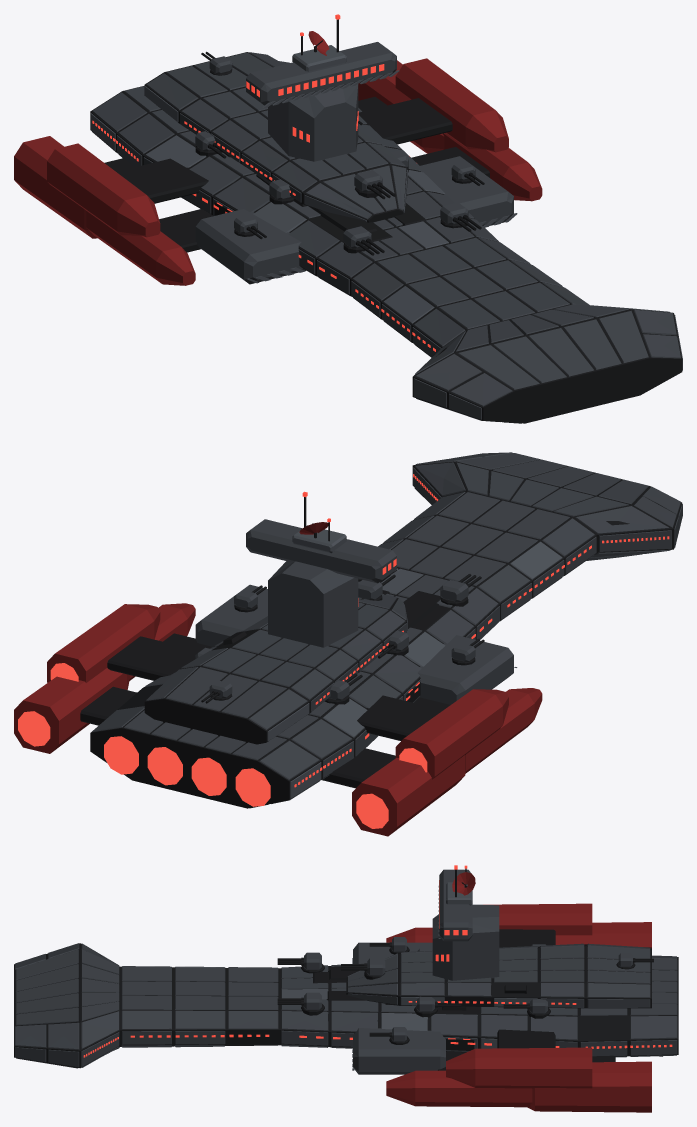
File: boss_dreadnought.glb
3 renders of one model, top to bottom at view 1: azimuth 30°, elevation 25°; view 2: azimuth 150°, elevation 25°; view 3: azimuth 270°, elevation 25°, orthographic. The views are drawn at different scales.
Parts seen in each view (by area): view 1: primary, structure, accent2, accent, windows; view 2: primary, structure, accent2, engineGlow, accent, windows; view 3: primary, accent2, structure, accent, windows.
Part boxes in pixels (x1,y1,x2,y2): primary: [92, 42, 682, 421]; structure: [90, 19, 682, 423]; accent2: [14, 31, 542, 285]; accent: [90, 45, 521, 423]; windows: [92, 14, 435, 351]; primary: [92, 452, 682, 808]; structure: [80, 459, 682, 808]; accent2: [14, 522, 542, 836]; engineGlow: [18, 663, 427, 828]; accent: [267, 529, 562, 803]; windows: [294, 474, 669, 787]; primary: [15, 869, 677, 1074]; accent2: [386, 872, 651, 1112]; structure: [14, 868, 678, 1070]; accent: [175, 882, 537, 1070]; windows: [83, 865, 672, 1057].
Bounding box in the file's own units: 80.59 × 41.81 × 142.
